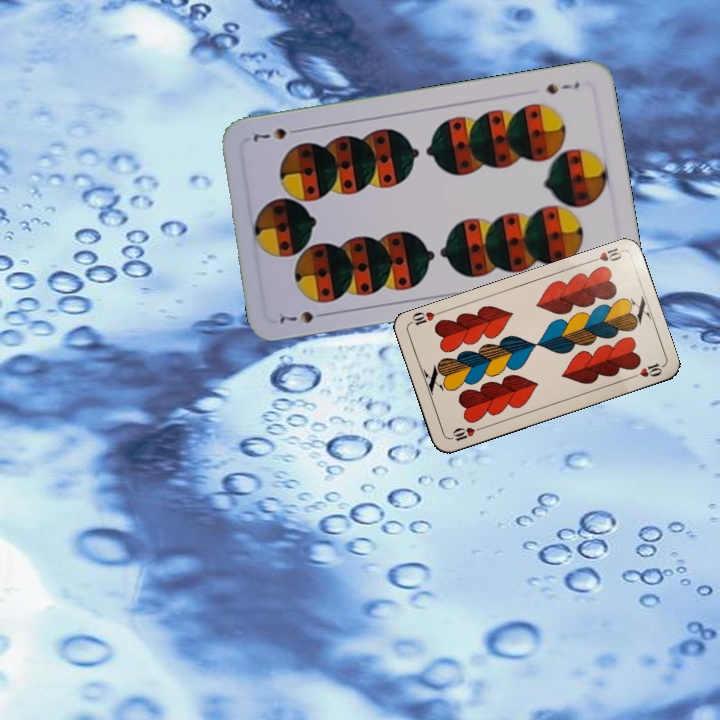H10: (446, 422, 486, 445), (585, 244, 625, 265)
S7: (273, 307, 331, 326), (542, 78, 582, 97)
